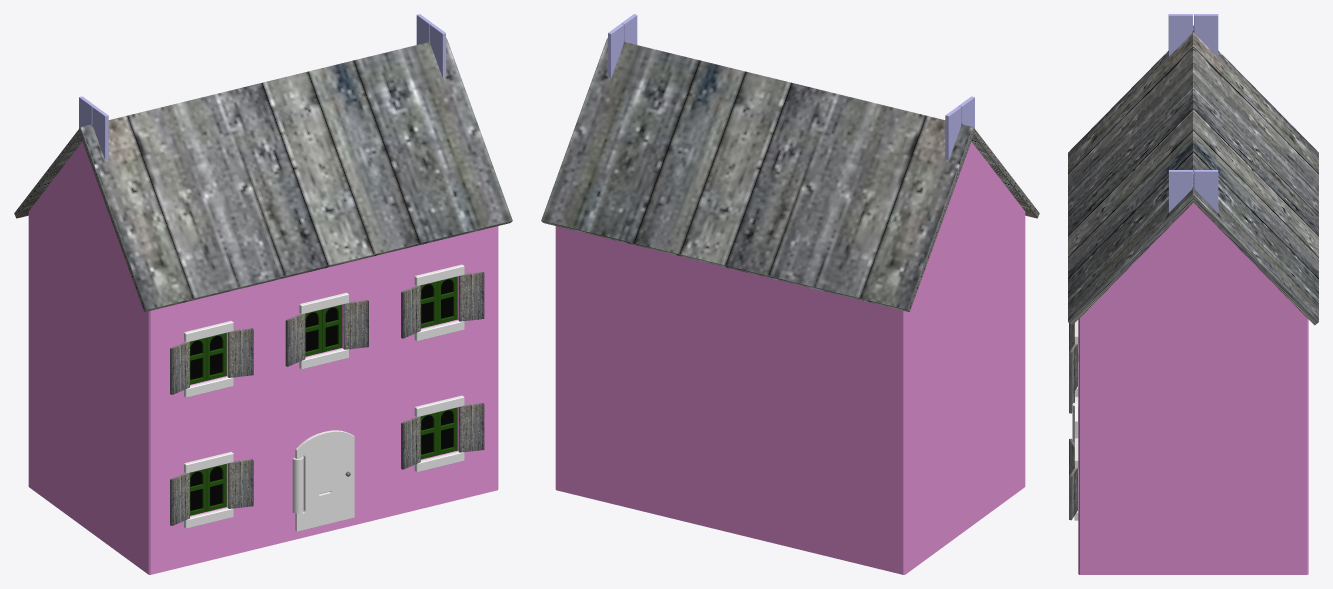
Rendered from DollHouse.obj.
The picture shows the model from 3 angles, left to right: view 1: azimuth 30°, elevation 25°; view 2: azimuth 150°, elevation 25°; view 3: azimuth 270°, elevation 25°; orthographic projection. The views are drawn at different scales.
Visible parts, largest first — view 1: Doll_s_hou; view 2: Doll_s_hou; view 3: Doll_s_hou.
Boxes of the visible parts, x1,y1,x2,y2 form: Doll_s_hou: [14, 14, 512, 574]; Doll_s_hou: [541, 14, 1039, 574]; Doll_s_hou: [1068, 14, 1318, 574].
Size of the model in its own units: 52.3 by 57.71 by 32.7.
6 materials, 3 textured.
